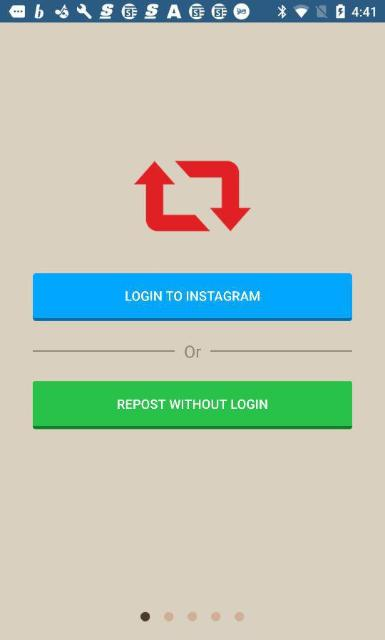Icon: (133, 159, 251, 231)
PageIndicator: (140, 611, 245, 621)
Text: (118, 399, 268, 409), (126, 291, 260, 301), (184, 346, 201, 358)
TextButton: (32, 273, 352, 321), (32, 381, 352, 429)
UpperTaskBar: (0, 0, 384, 22)
